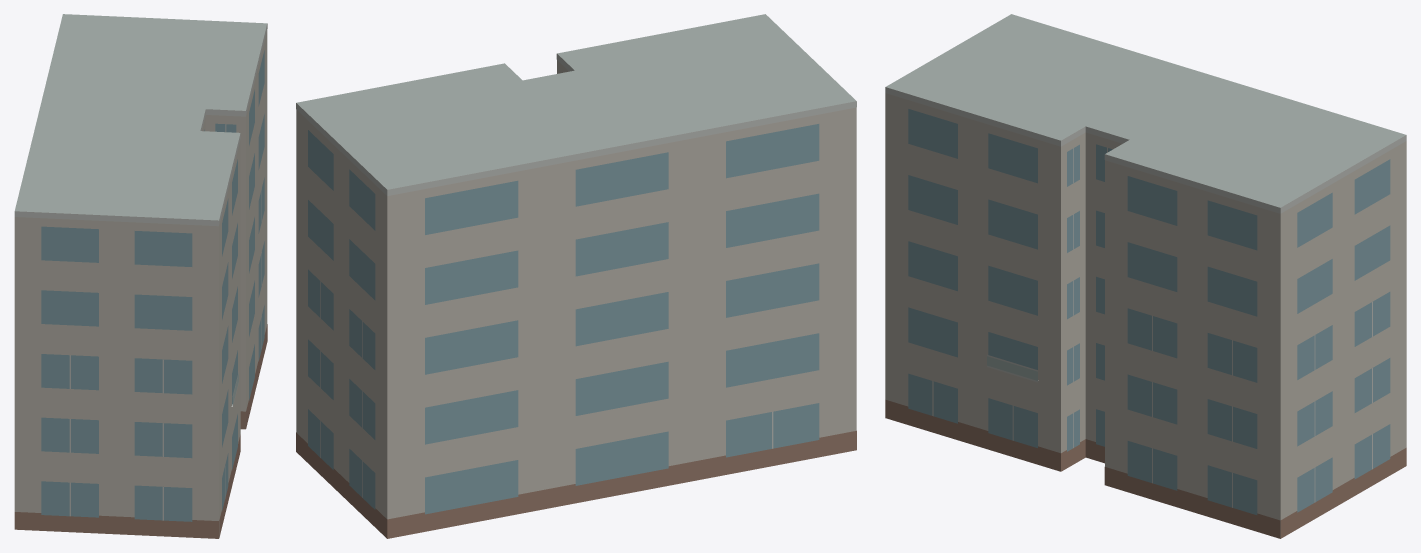
File: survey-upis-32879804.glb
3 renders of one model, left to right at view 1: azimuth 30°, elevation 25°; view 2: azimuth 150°, elevation 25°; view 3: azimuth 270°, elevation 25°, orthographic. The views are drawn at different scales.
Visible parts, largest first — view 1: survey-upis-32879804.tmp; view 2: survey-upis-32879804.tmp; view 3: survey-upis-32879804.tmp.
Boxes of the visible parts, box(x1,y1,x2,y2) form: survey-upis-32879804.tmp: box(14, 14, 267, 538); survey-upis-32879804.tmp: box(296, 14, 856, 538); survey-upis-32879804.tmp: box(885, 14, 1406, 538).
Size of the model in its own units: 16.96 by 13.5 by 19.27.
